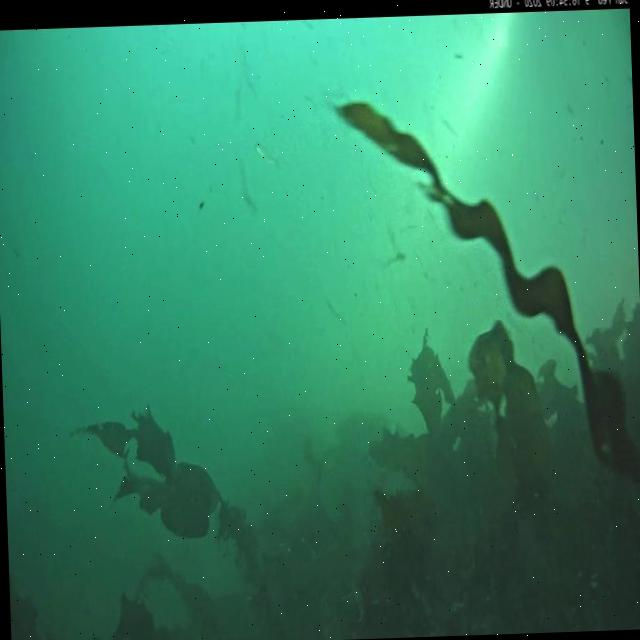fish: (252, 141, 280, 168)
